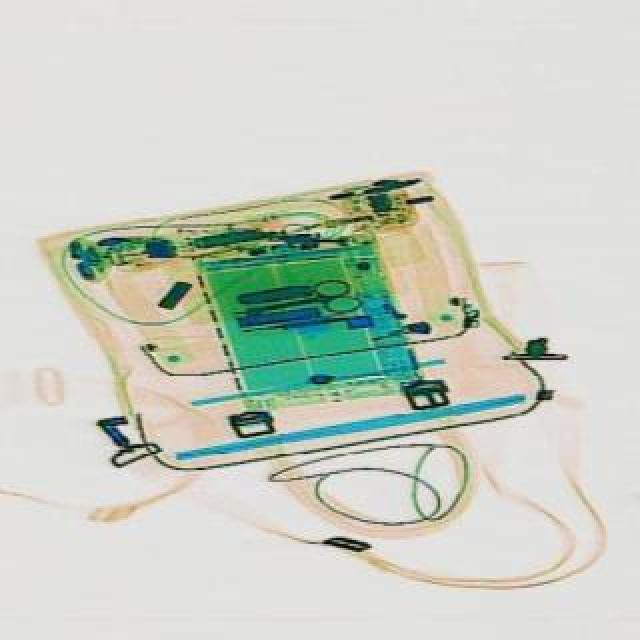pliers: (238, 274, 366, 330)
